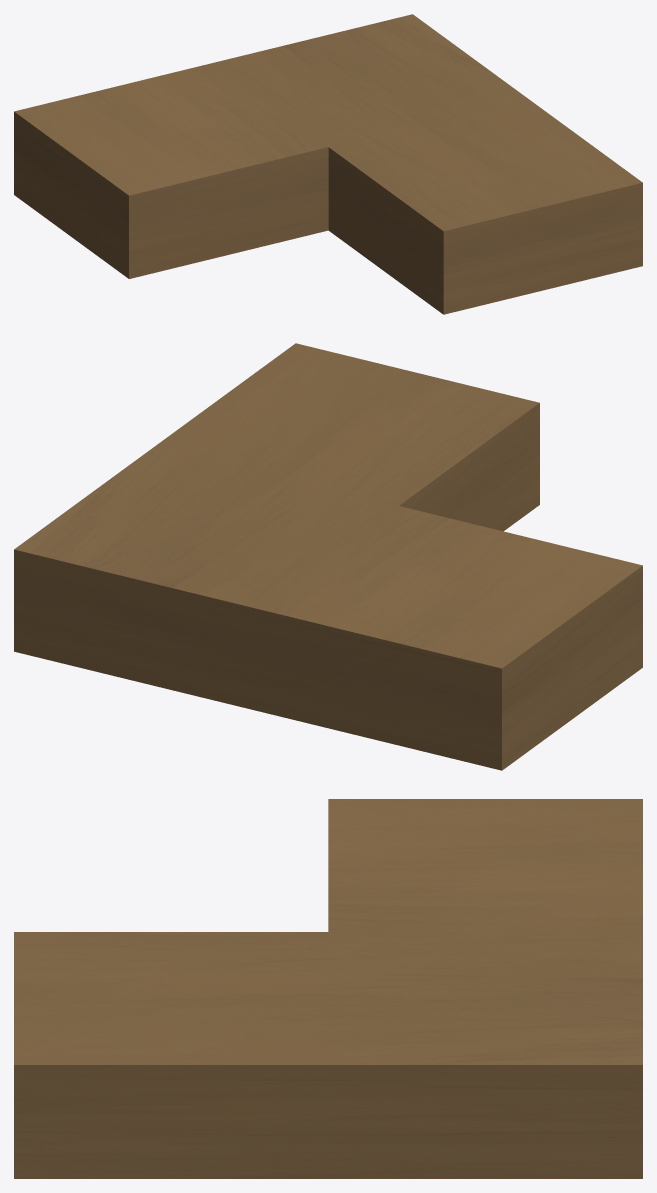
File: SharpCorner5x5.glb
3 views of the same model, one above another, from view 1: azimuth 30°, elevation 25°; view 2: azimuth 150°, elevation 25°; view 3: azimuth 270°, elevation 25° (orthographic). The views are drawn at different scales.
Visible parts, largest first — view 1: SharpCorner5x5; view 2: SharpCorner5x5; view 3: SharpCorner5x5.
Boxes of the visible parts, x1=… form: SharpCorner5x5: x1=14, y1=14, x2=642, y2=314; SharpCorner5x5: x1=14, y1=343, x2=642, y2=770; SharpCorner5x5: x1=14, y1=799, x2=642, y2=1178.
Bounding box in the file's own units: 10 × 2 × 10.
Materials: 1 (1 with a texture image).
